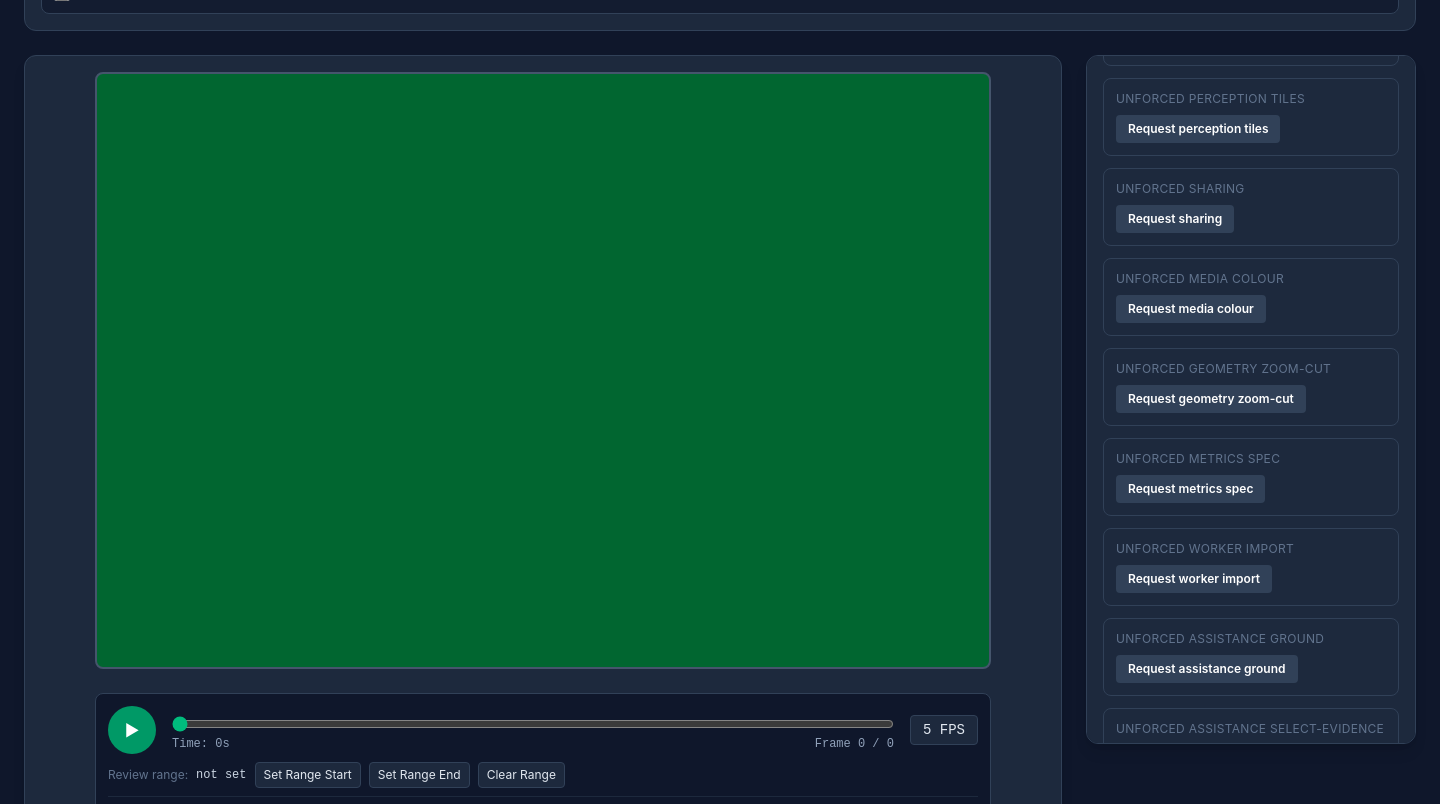
App leftover HTTP surfaces › posts geometry zoom-cut, metrics spec, and worker import without leftover changed false, identityContinuous, or qualityAccepted
(page scrolled)
Click the button "Request geometry zoom-cut" at (1211,399), box [1116,385,1306,413]
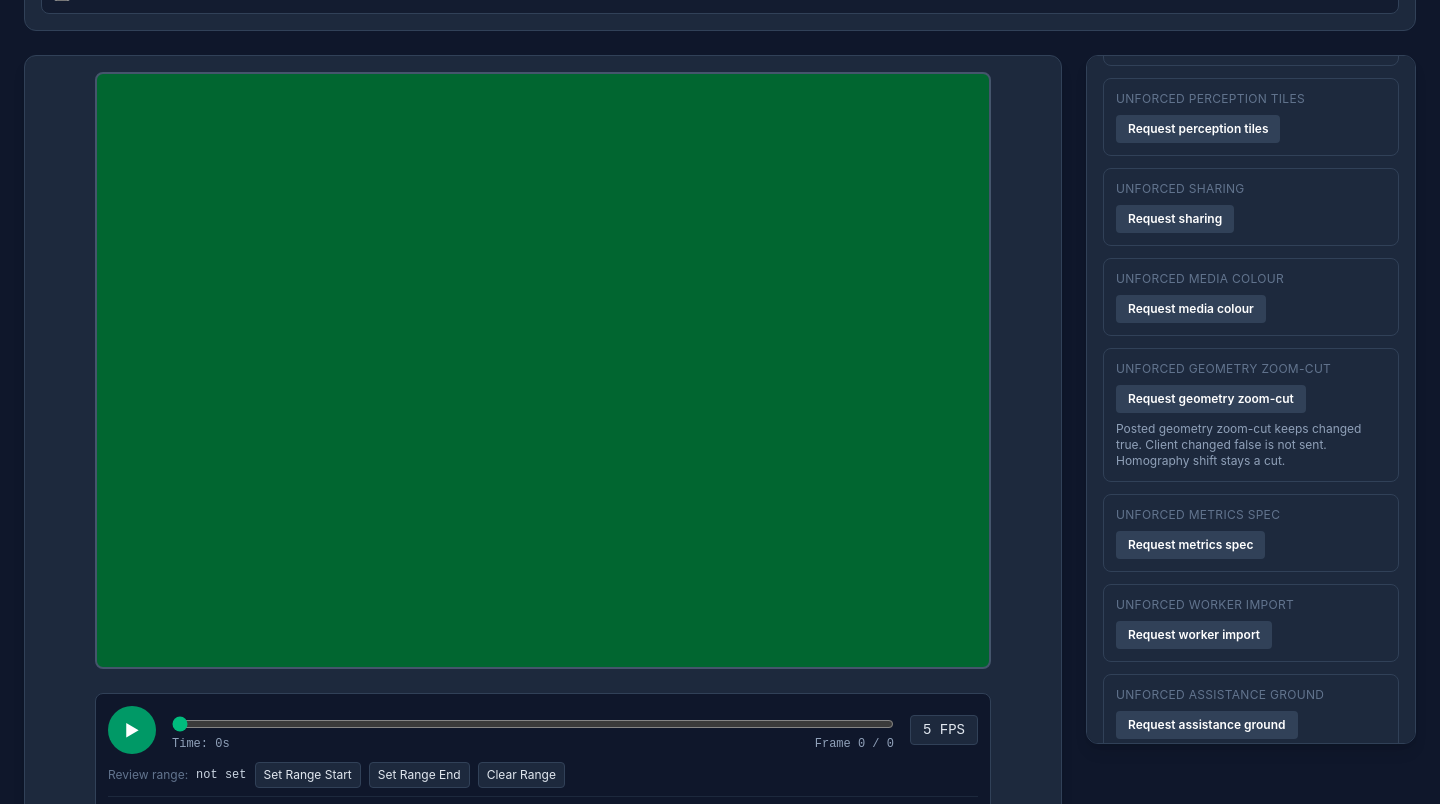
Click the button "Request metrics spec" at (1191,545), box [1116,531,1266,559]
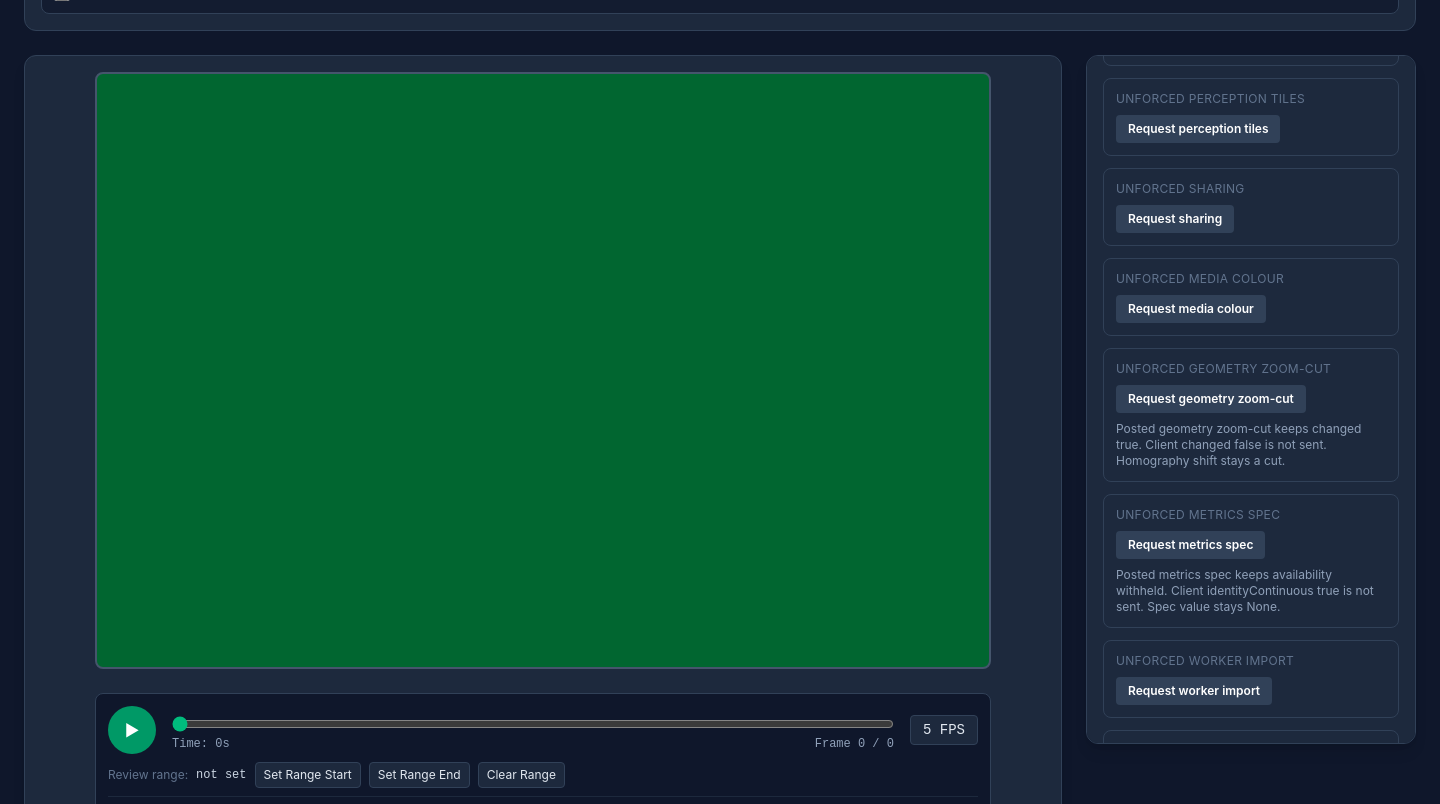
Click the button "Request worker import" at (1194,691), box [1116,677,1272,705]
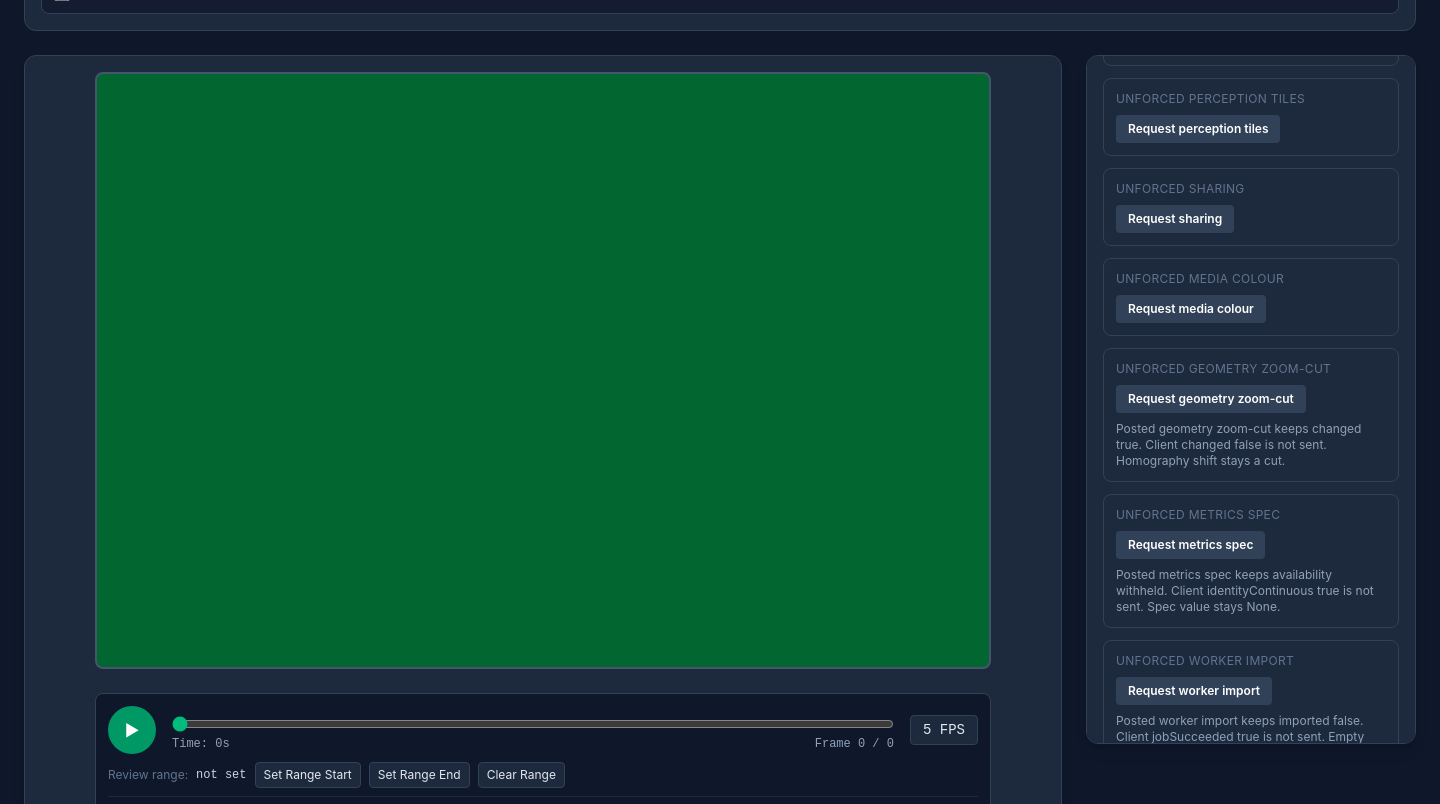
expect the text "homography shift stays a cut" is shown: met, box [1116,421,1361,468]
expect the text "spec value stays None" is shown: met, box [1116,567,1374,614]
expect the text "empty kind stays unrecognised" is shown: met, box [1116,713,1364,744]
